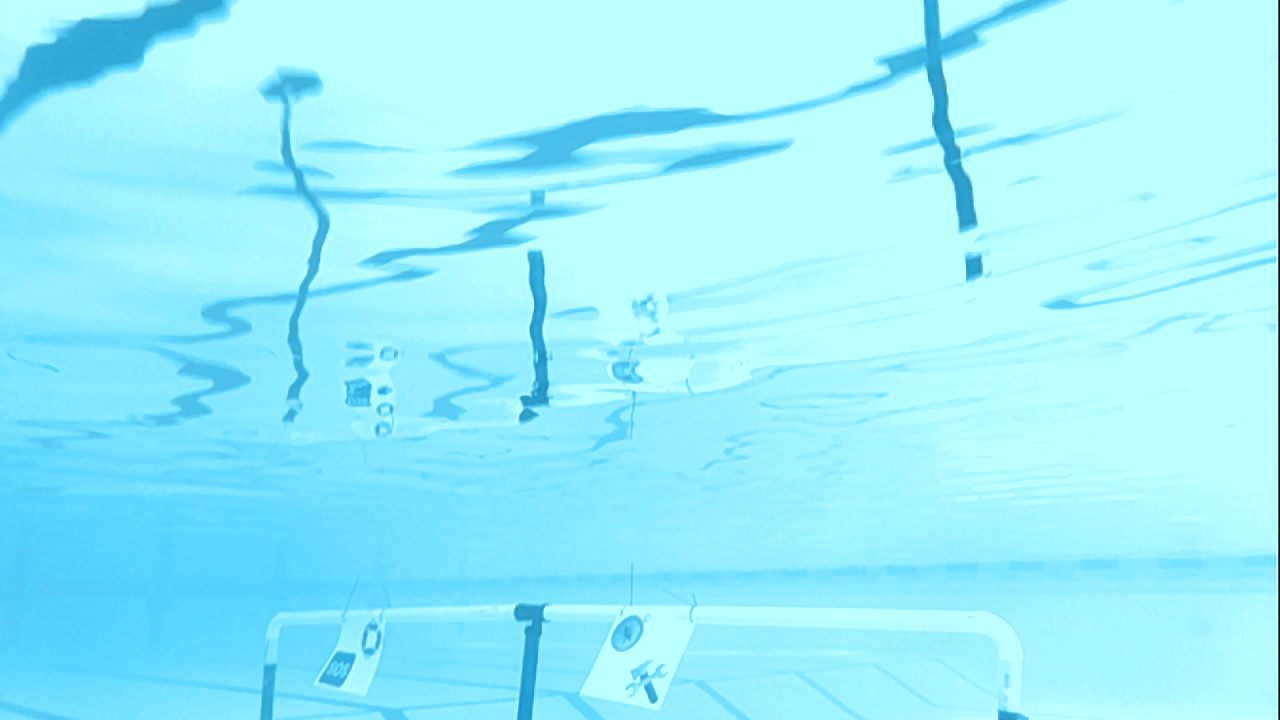compass_hammer: (588, 611, 687, 709)
sos_safety: (316, 616, 388, 697)
